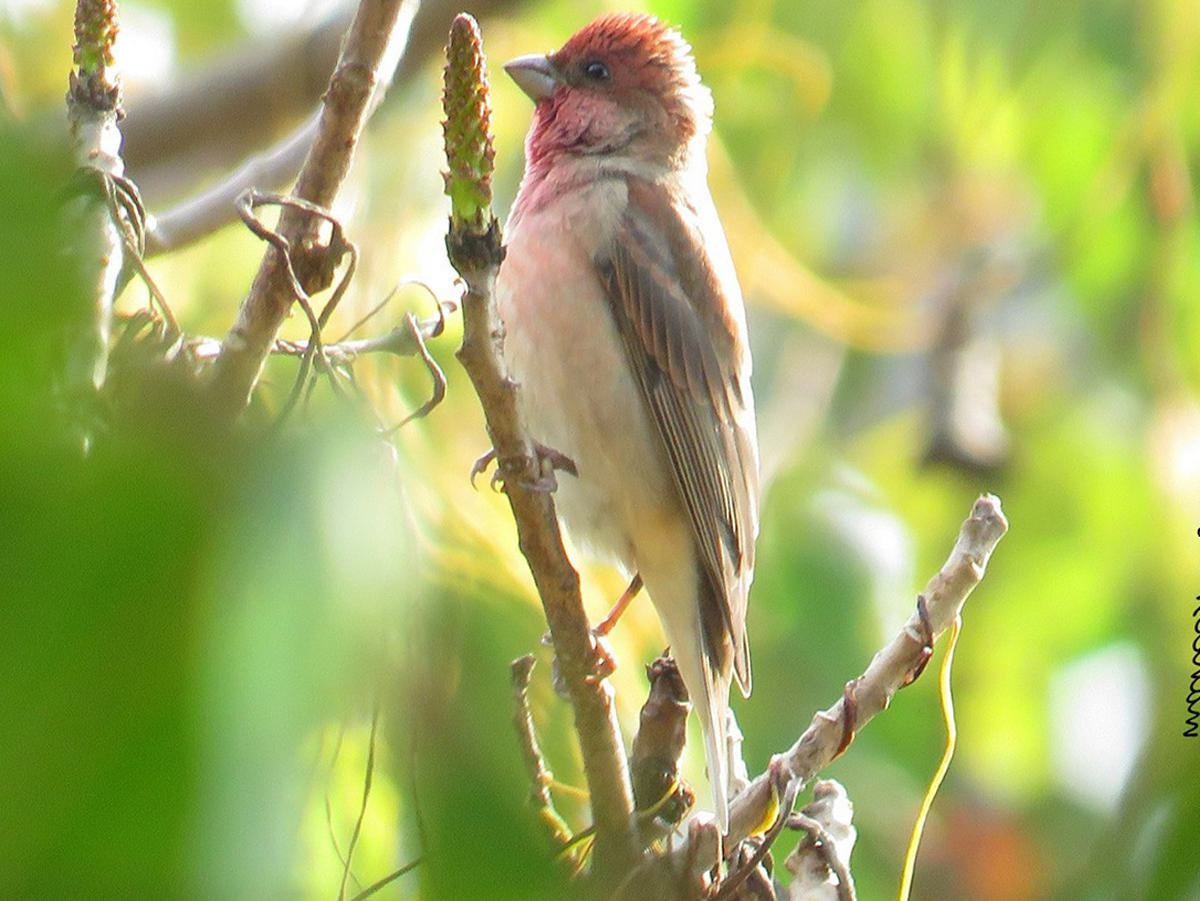rosefinch: (483, 18, 775, 792)
